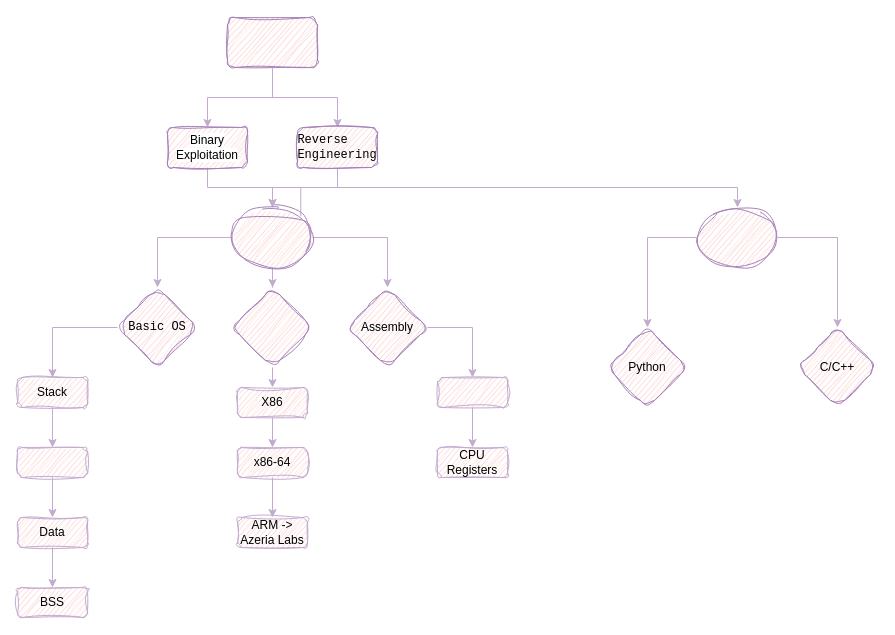
The diagram is 895 pixels wide and 635 high, and some of its shapes have lost their labels. The shapes that lost their labels are listed below. From the top down, each one's centre as x and y in pixels, then its label:
At point 272,42: "Study".
At point 272,237: "Basics".
At point 737,237: "Practice".
At point 272,327: "x86, x86-64, ARM".
At point 472,392: "ISA".
At point 52,462: "Heap".
